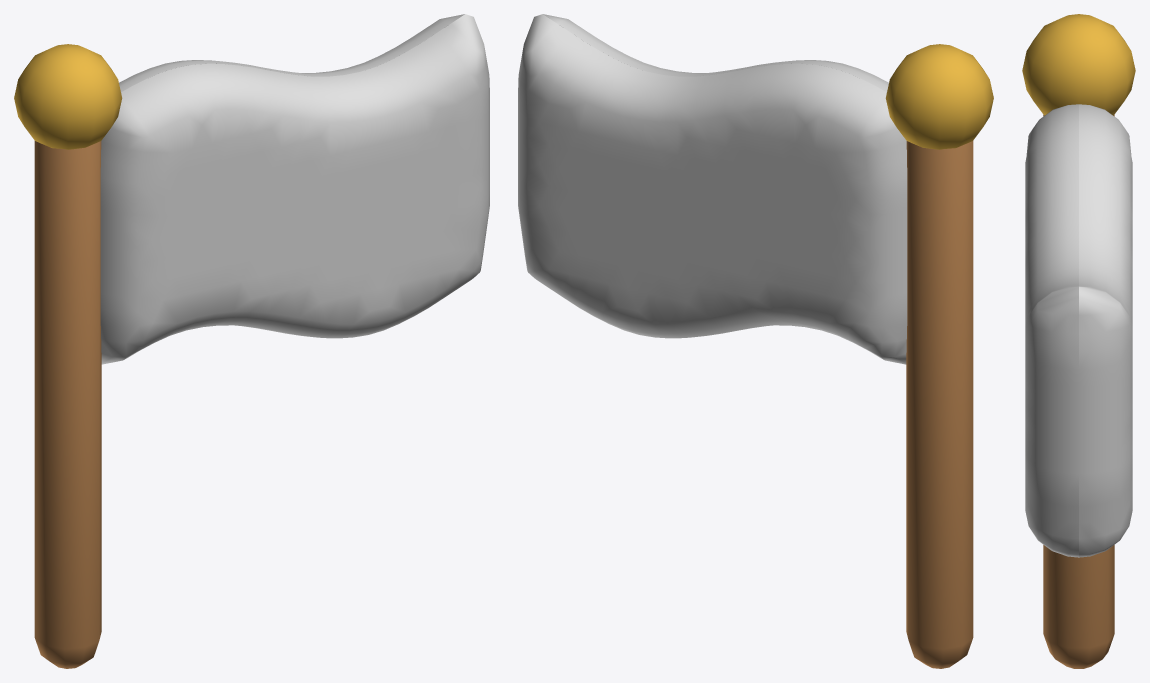
The model's file is flag.glb.
The picture shows the model from 3 angles, left to right: view 1: azimuth 30°, elevation 25°; view 2: azimuth 150°, elevation 25°; view 3: azimuth 270°, elevation 25°; orthographic projection. The views are drawn at different scales.
Parts seen in each view (by area): view 1: flag; view 2: flag; view 3: flag.
Part boxes in pixels (x1=…): flag: x1=14, y1=14, x2=489, y2=668; flag: x1=518, y1=14, x2=993, y2=668; flag: x1=1022, y1=14, x2=1135, y2=668.
Size of the model in its own units: 0.7824 by 1 by 0.159.
